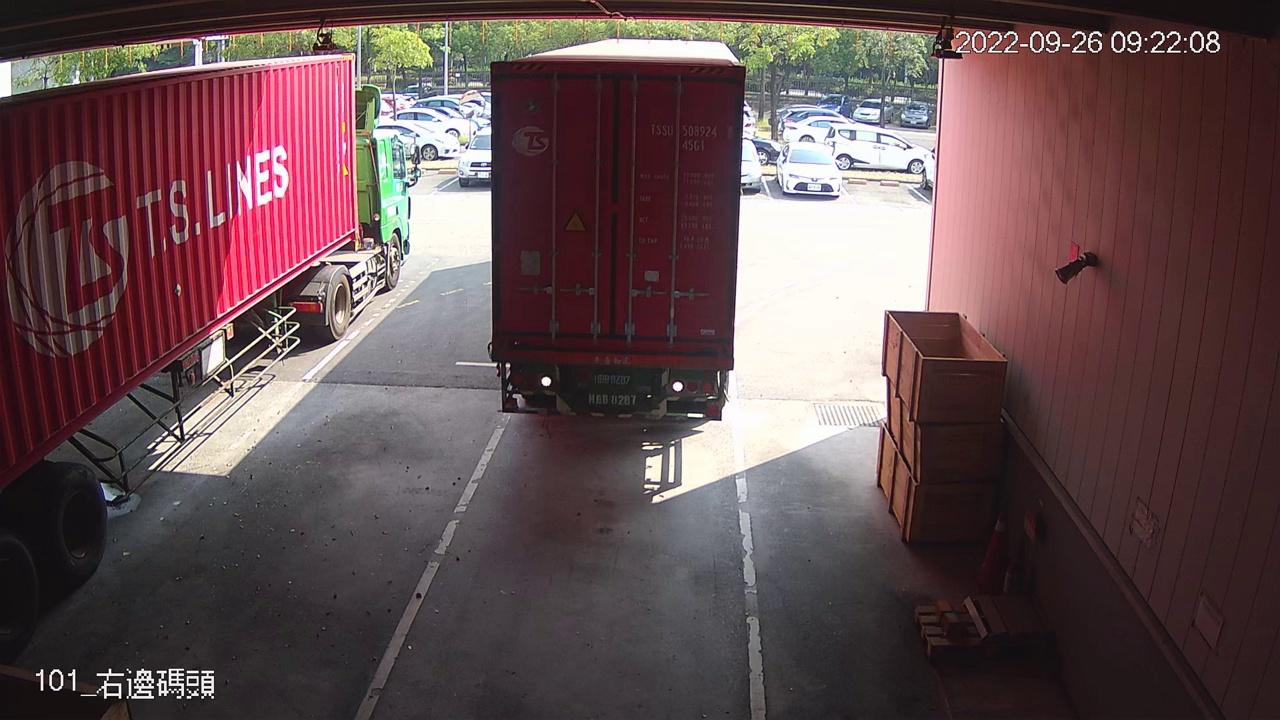container: (646, 117, 737, 157)
